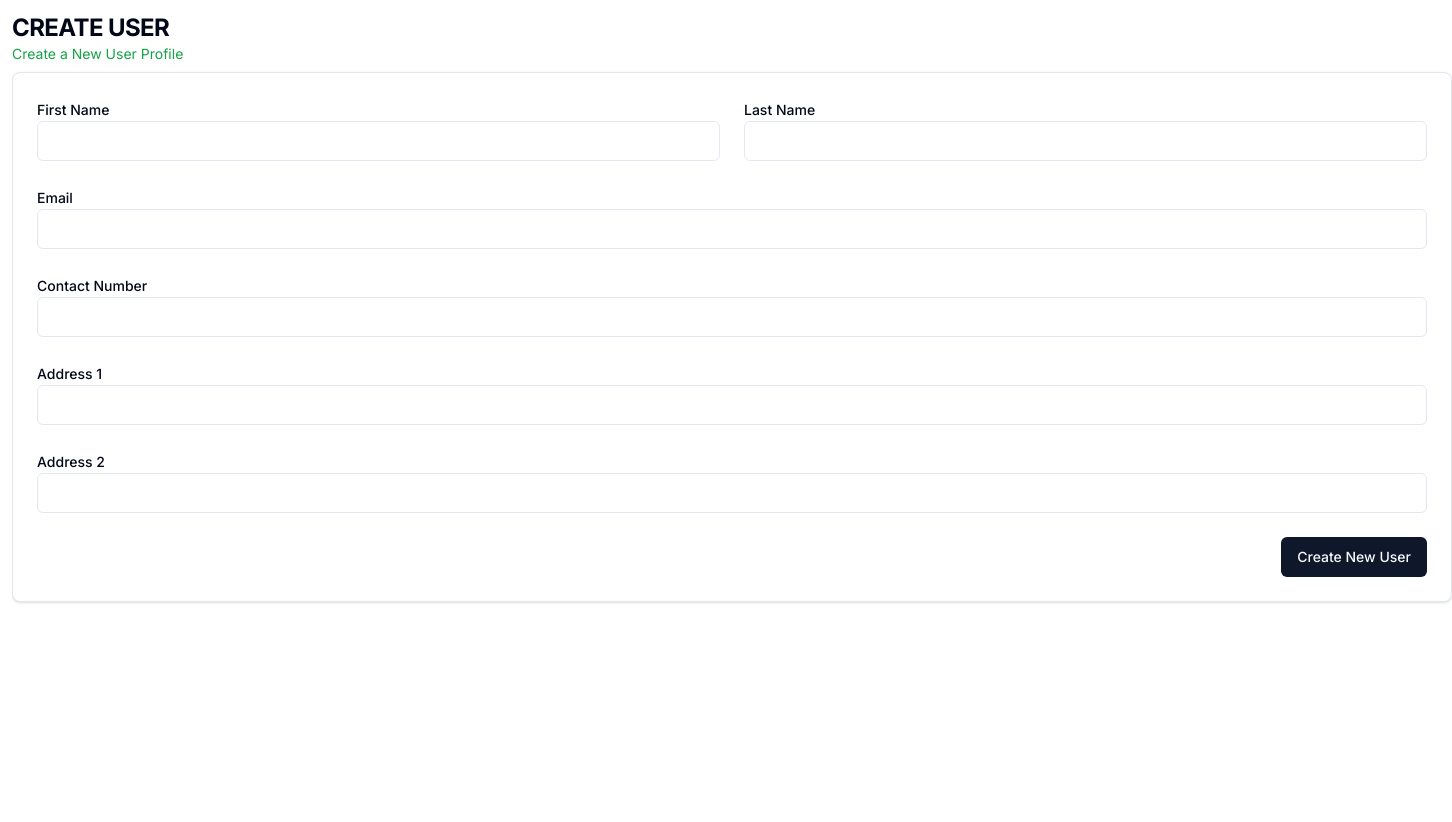
Scenario: FormPage › shows success message after valid submission
In the field labelled "First Name": {"x": 378, "y": 141} [37,121,720,161], type "John"
In the field labelled "Last Name": {"x": 1086, "y": 141} [744,121,1427,161], type "Doe"
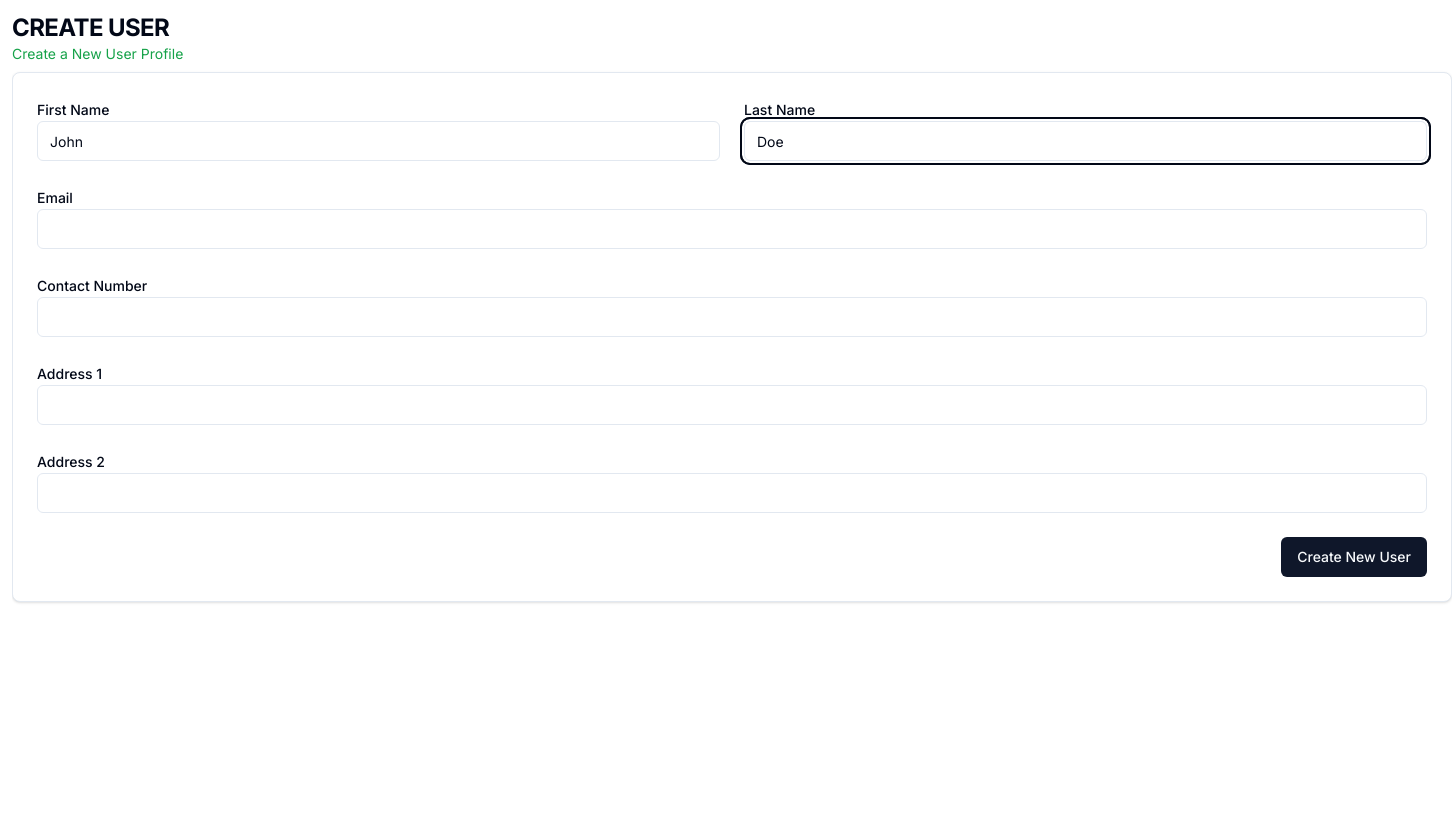
In the field labelled "Email": {"x": 732, "y": 229} [37,209,1427,249], type "john@example.com"
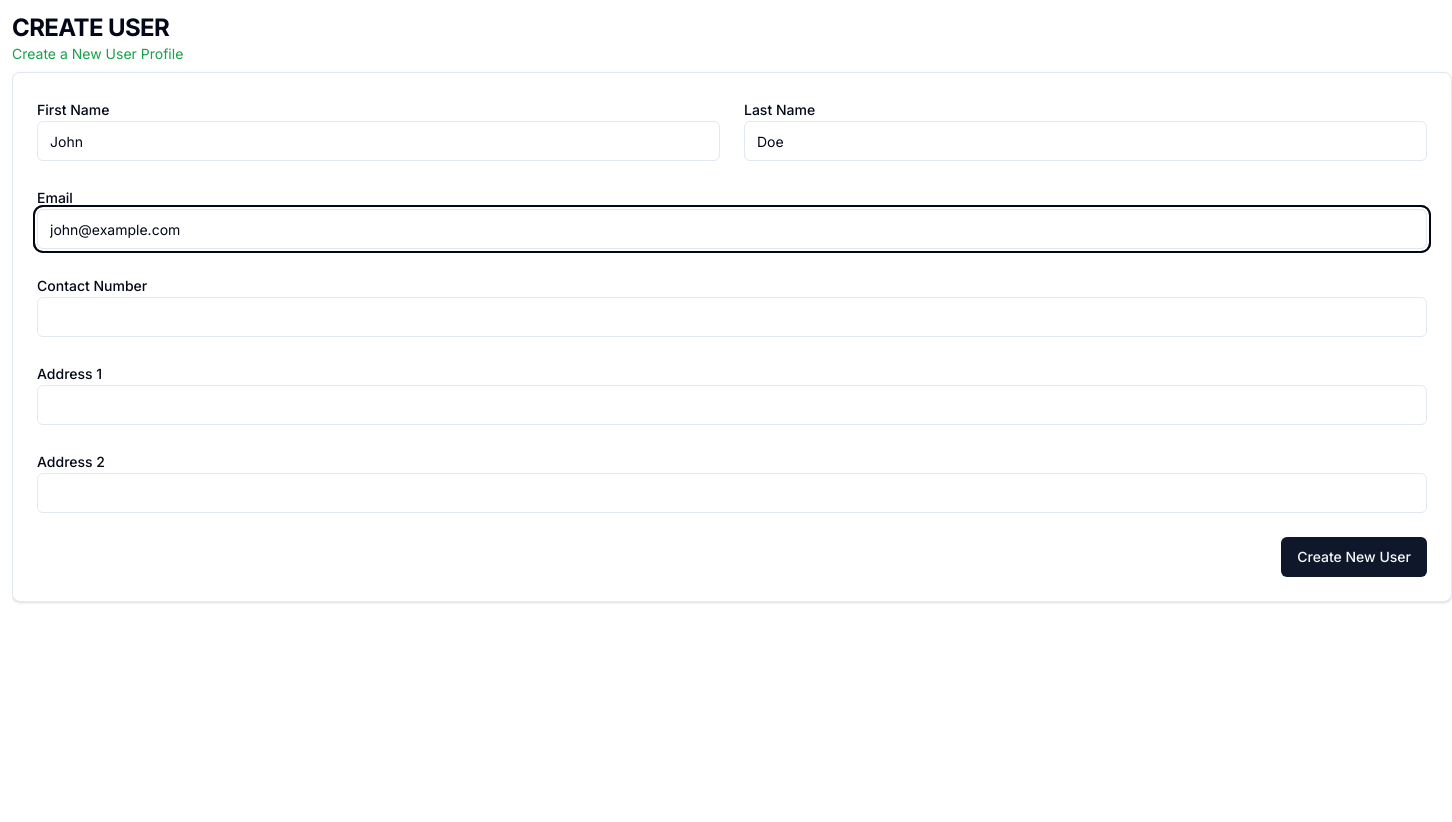
In the field labelled "Contact Number": {"x": 732, "y": 317} [37,297,1427,337], type "1234567890"
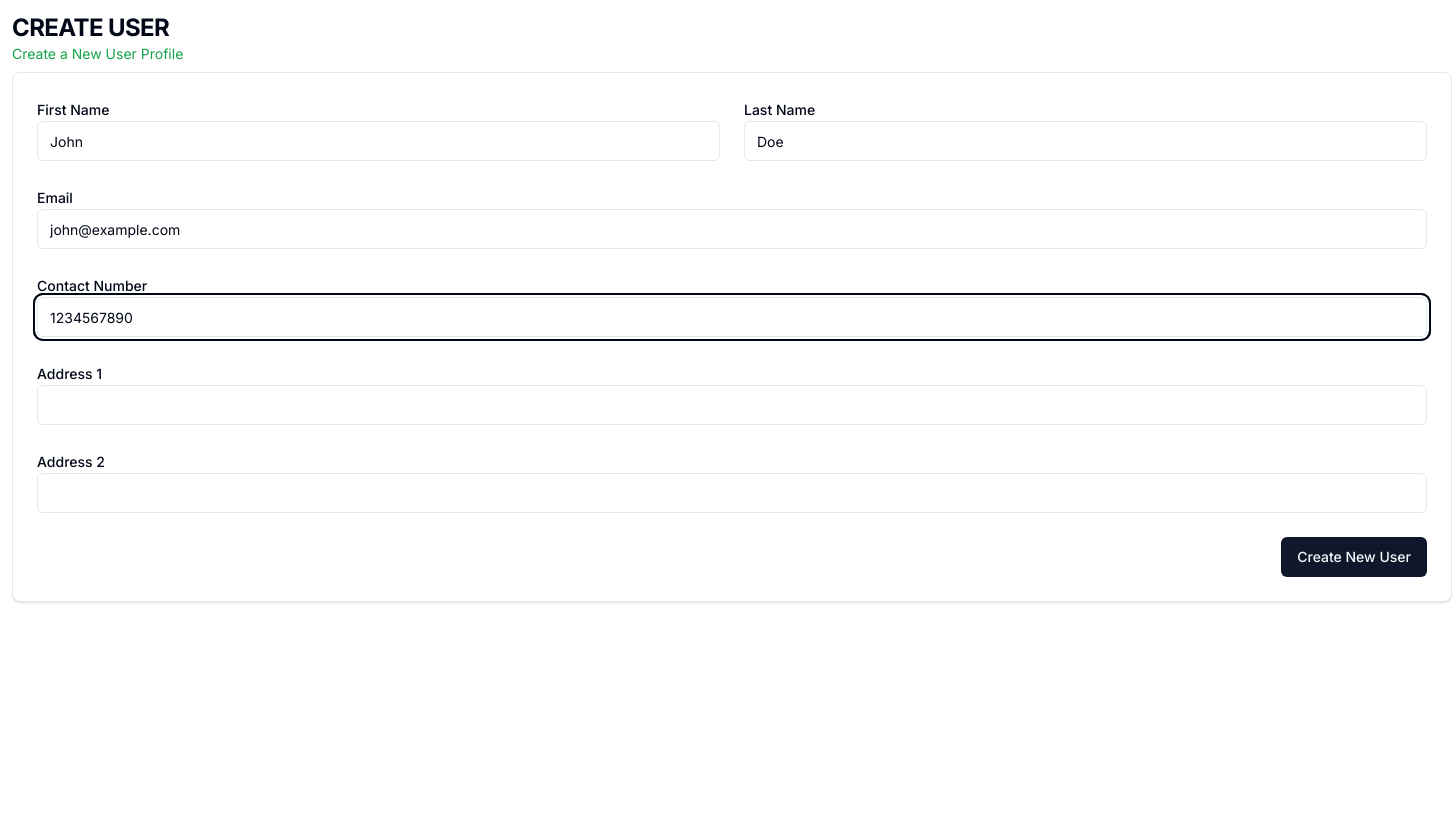
In the field labelled "Address 1": {"x": 732, "y": 405} [37,385,1427,425], type "123 Main St"
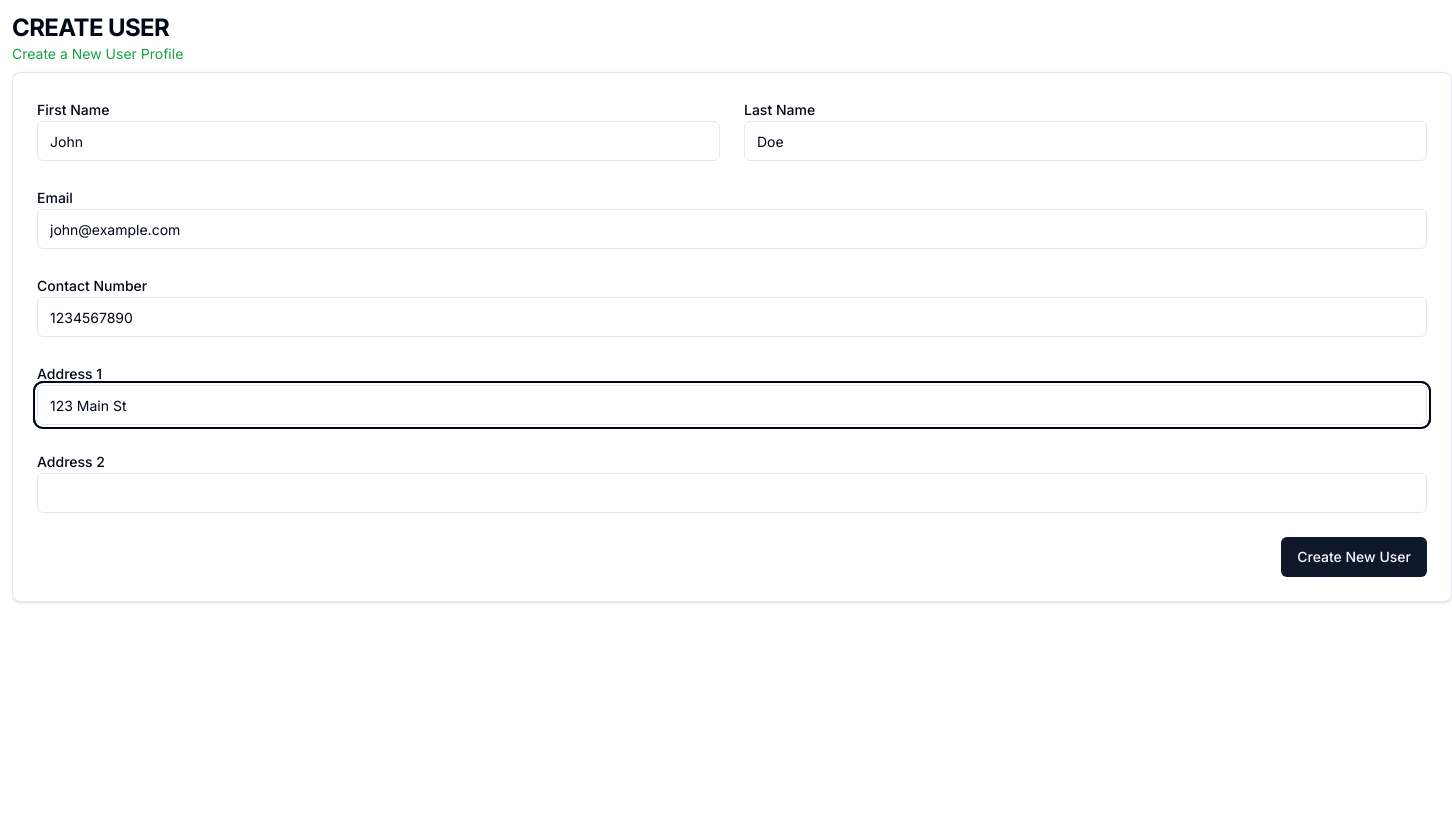
In the field labelled "Address 2": {"x": 732, "y": 493} [37,473,1427,513], type "Apt 1"
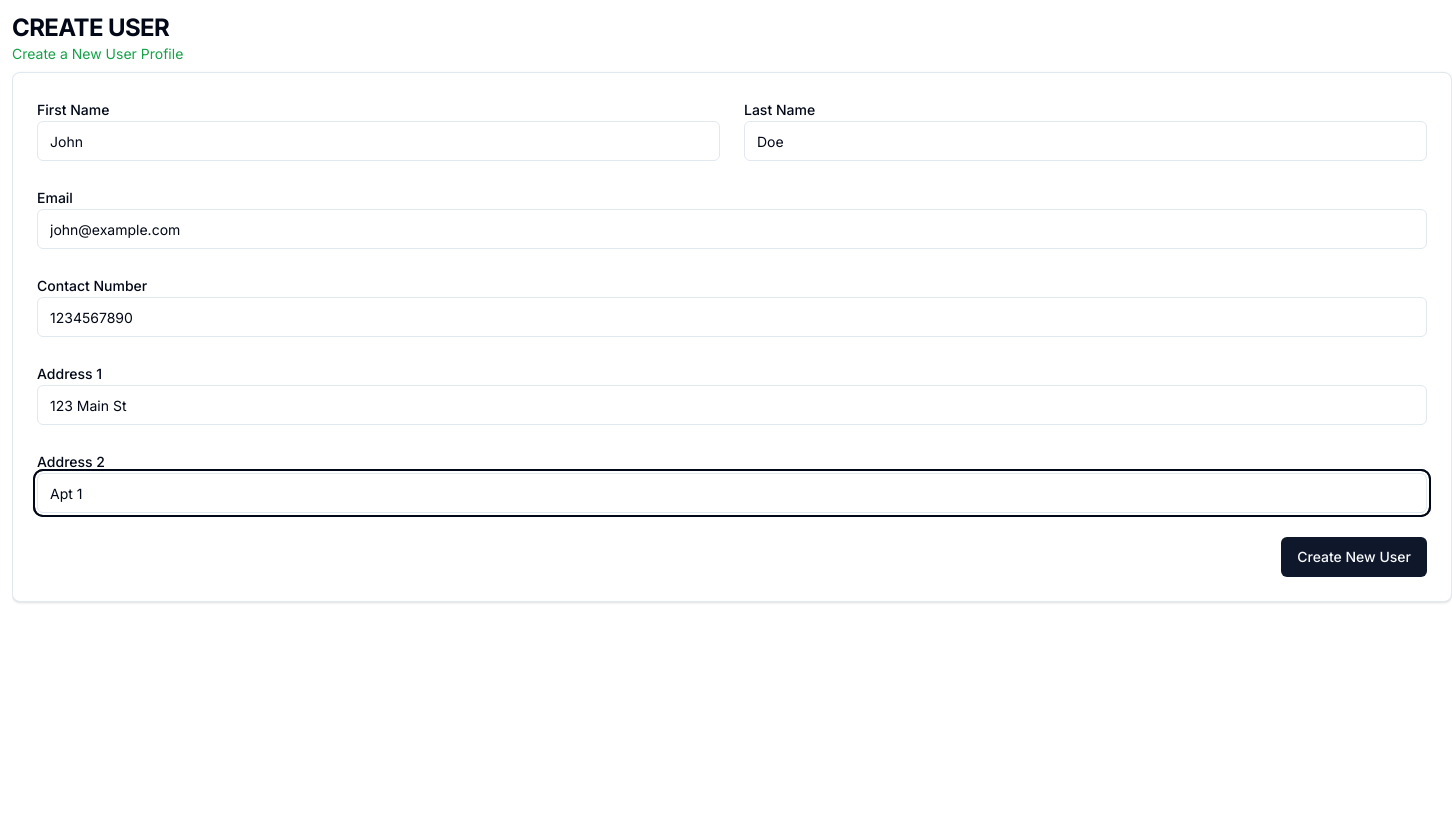
Click the button "Create New User": {"x": 1354, "y": 557} [1281,537,1427,577]
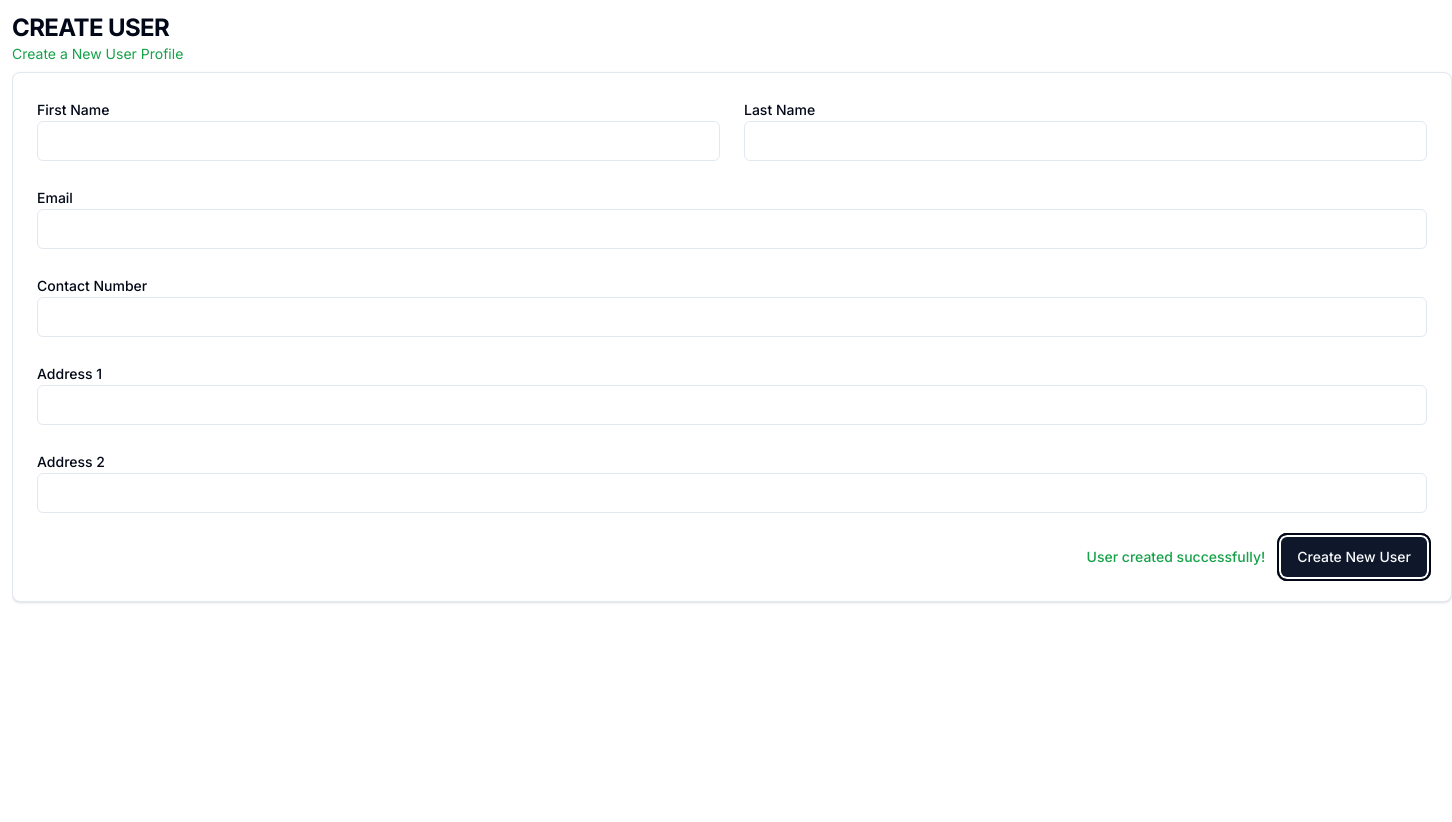
Expected: the text "User created successfully!" is shown, [1086,547,1265,567]
